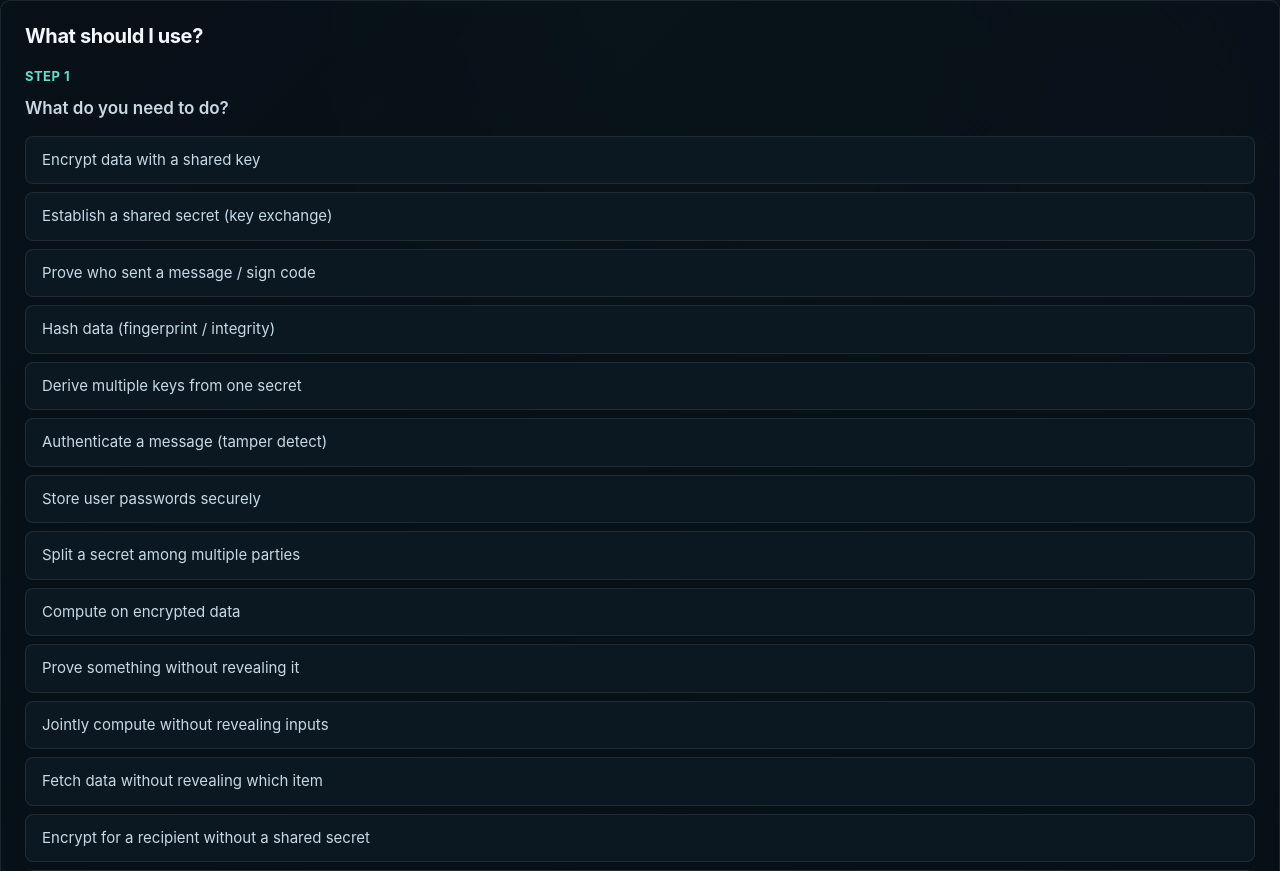
Test: Decision Flowchart Paths › navigating password → modern recommends Argon2id
Click the button "Store user passwords securely" at (151, 498), box x1=25 y1=475 x2=1255 y2=523
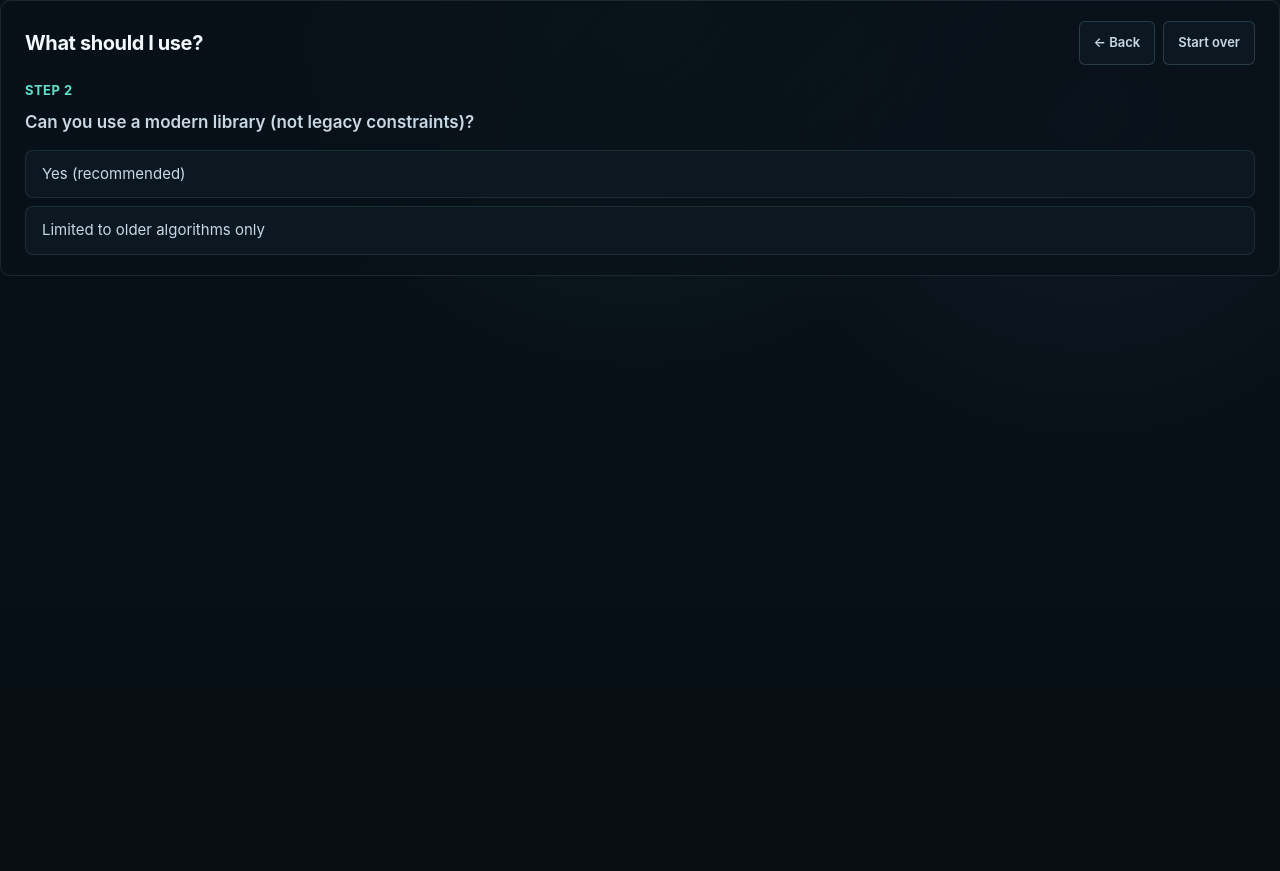
Click the button "Yes (recommended)" at (114, 173), box x1=25 y1=150 x2=1255 y2=198
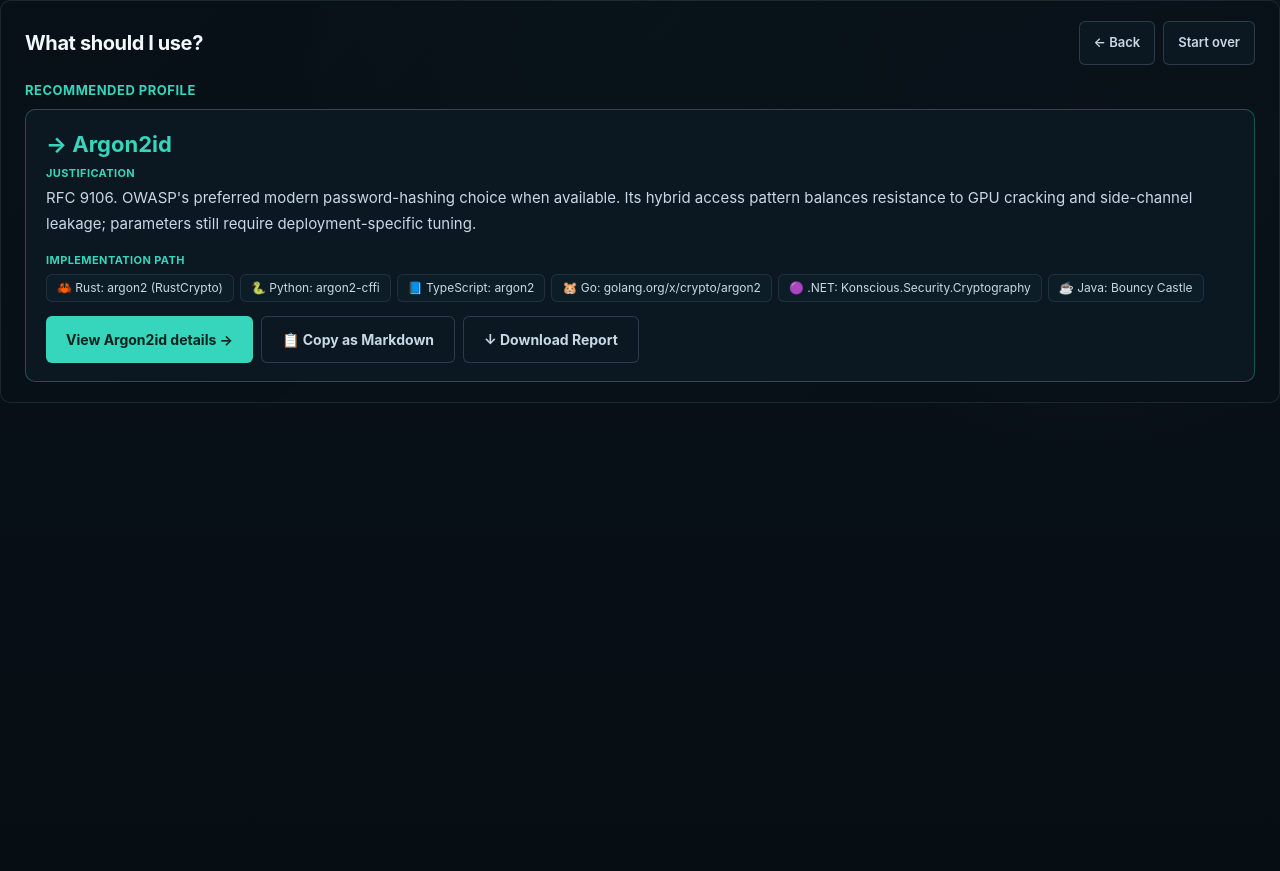
Check: the text "→ Argon2id" is shown, box x1=46 y1=130 x2=172 y2=156
